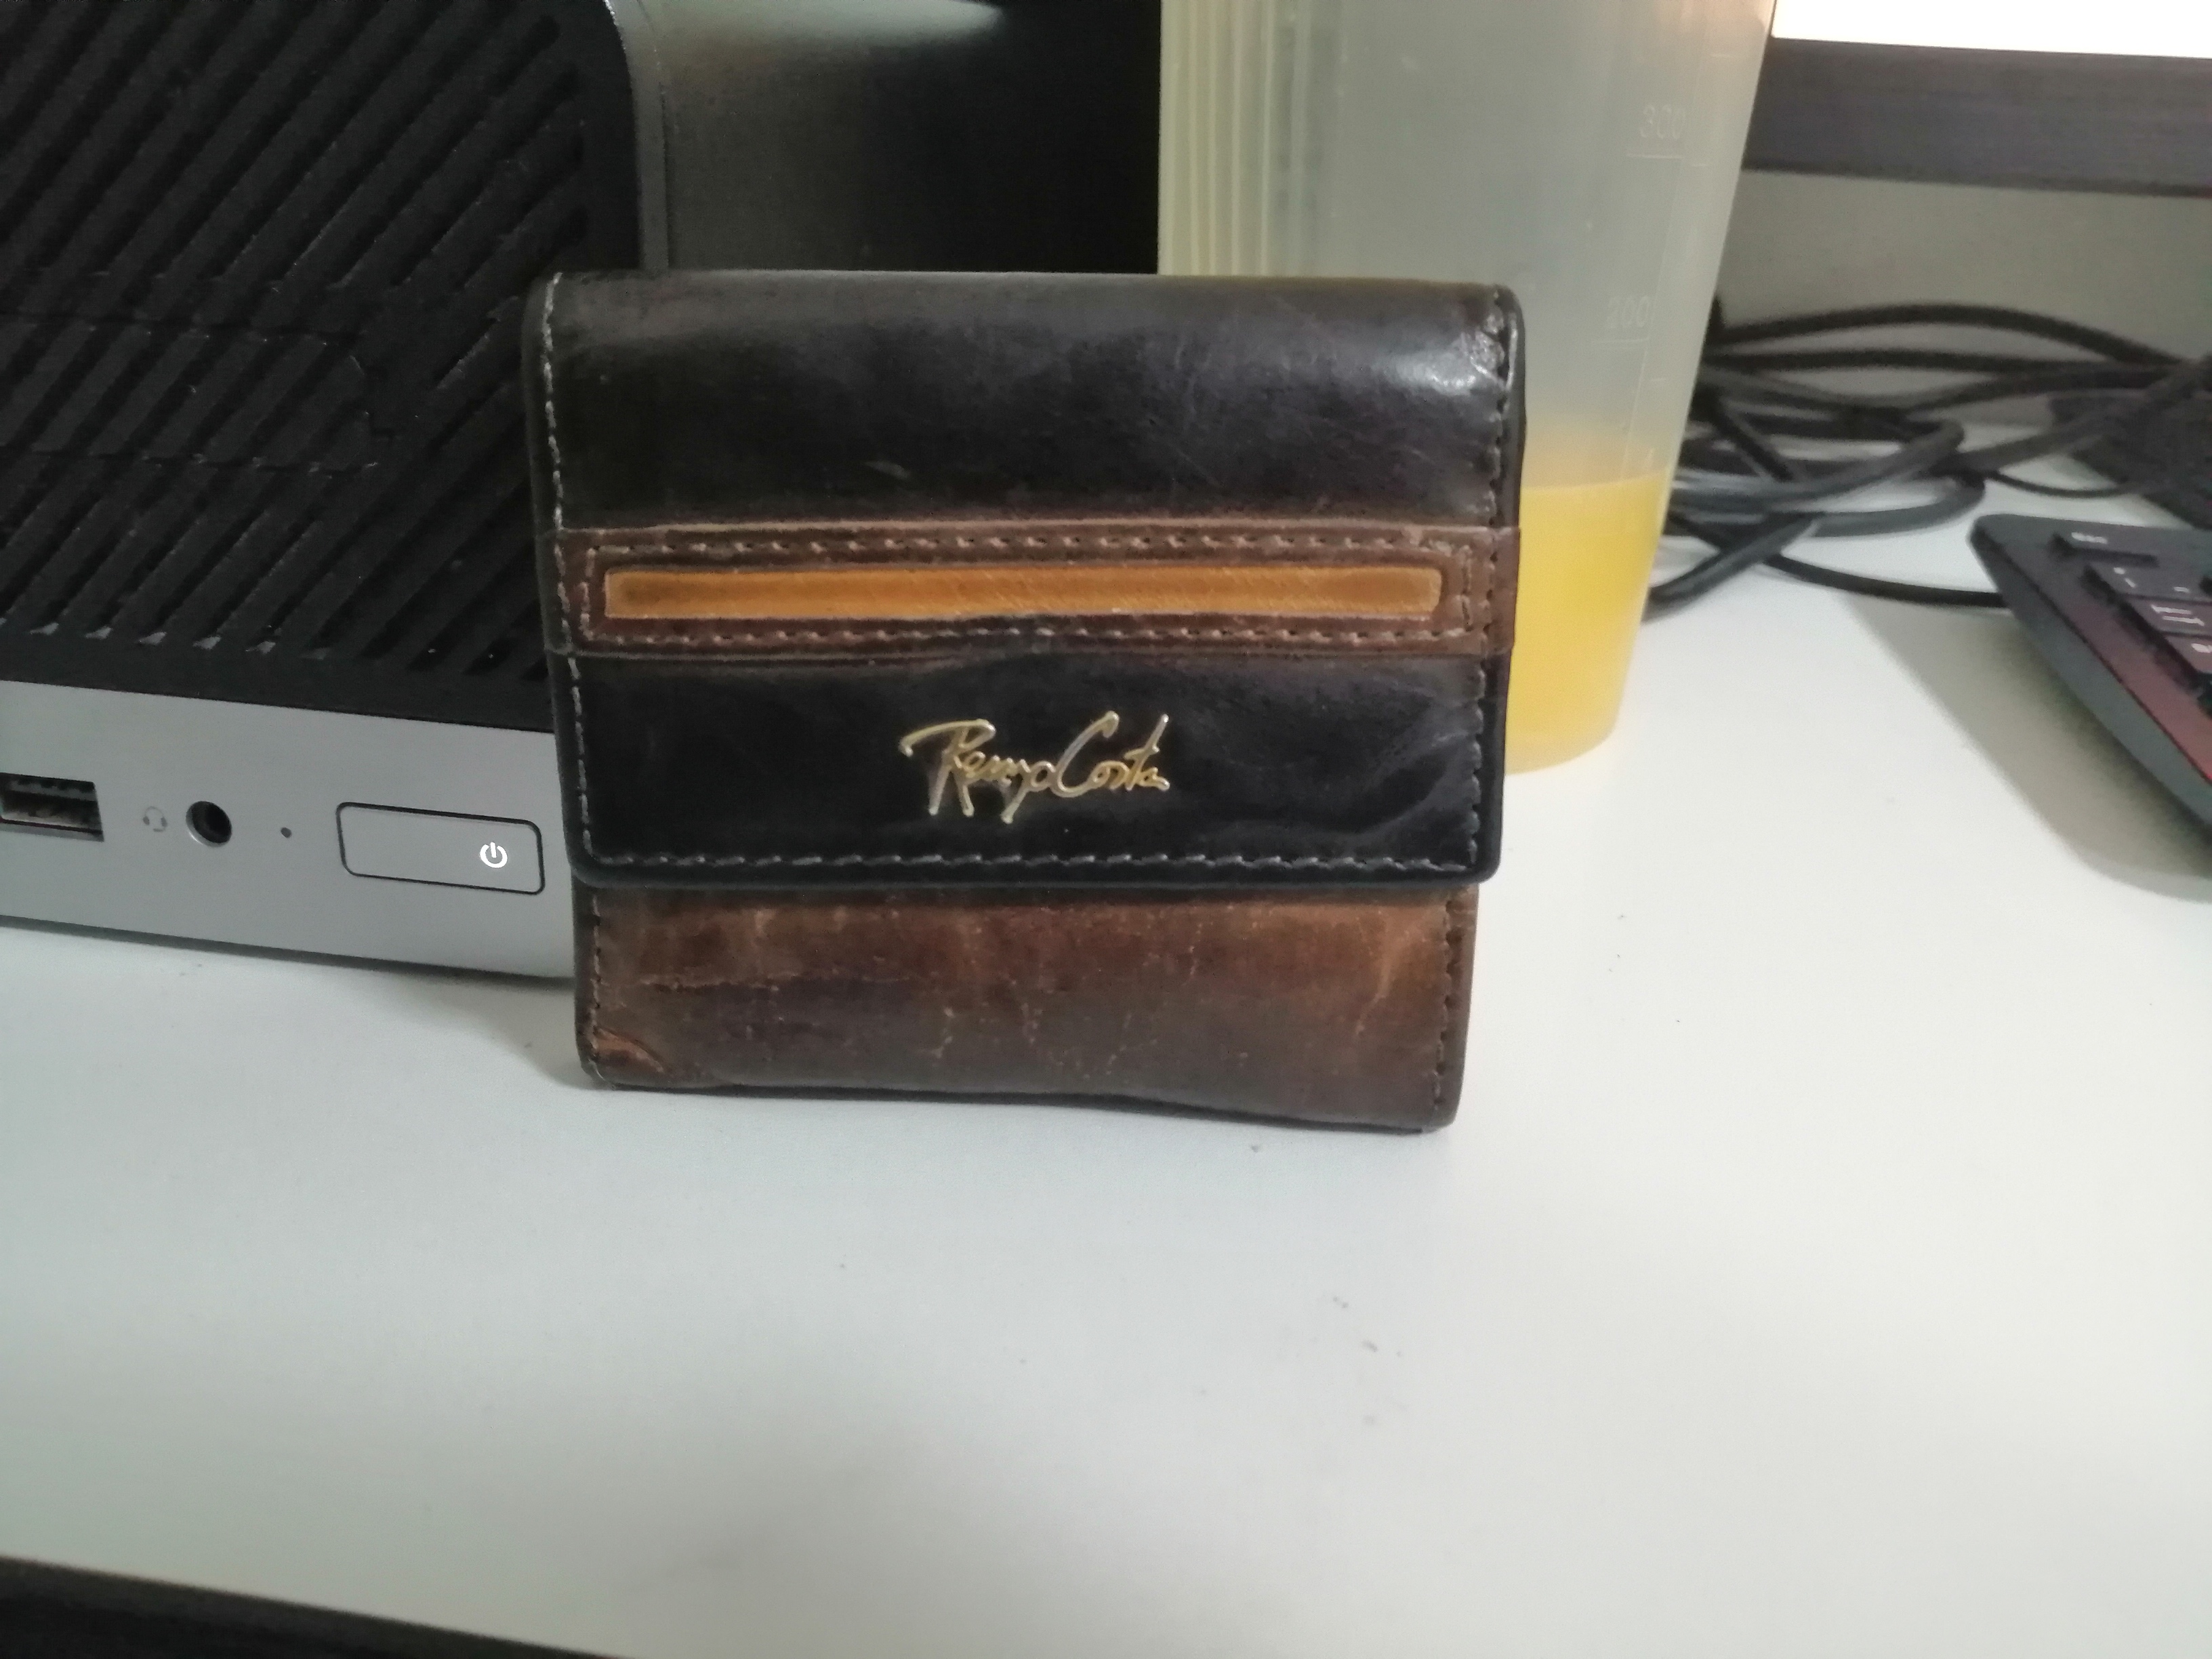monedero: (489, 251, 1562, 1154)
